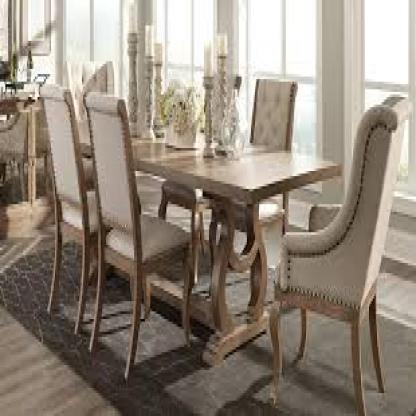Dining Table: (32, 58, 408, 414)
